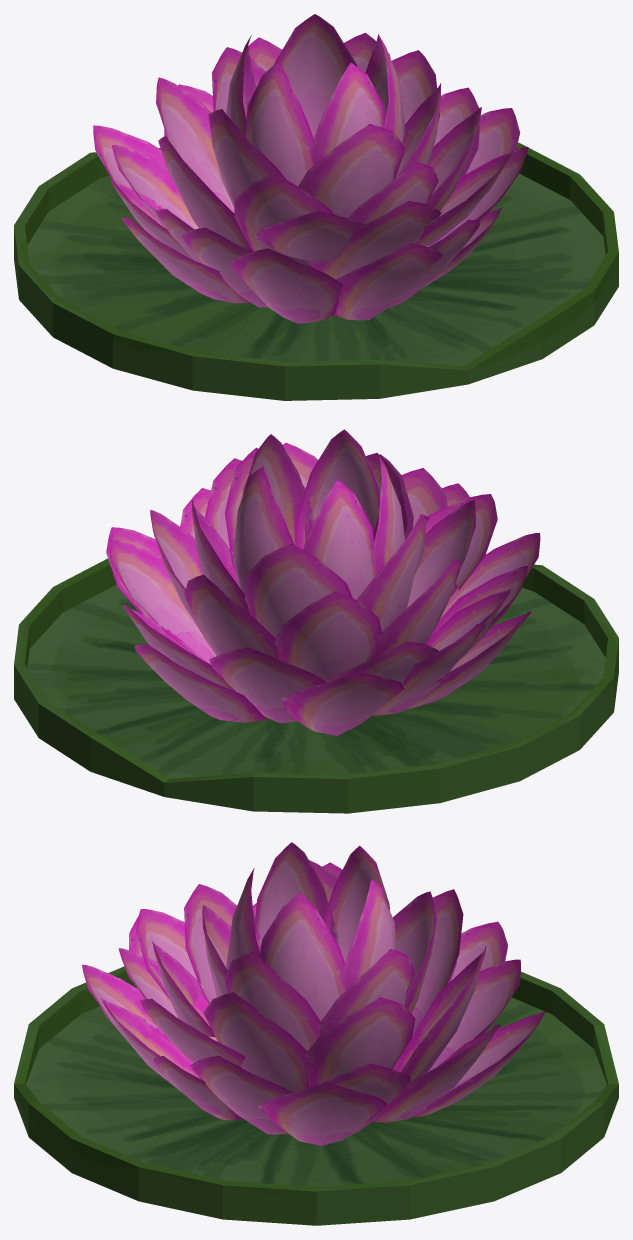
The model's file is LotusFlower_Mod.fbx.
3 views of the same model, one above another, from view 1: azimuth 30°, elevation 25°; view 2: azimuth 150°, elevation 25°; view 3: azimuth 270°, elevation 25° (orthographic).
Parts seen in each view (by area): view 1: Frog; view 2: Frog; view 3: Frog.
Boxes of the visible parts, x1,y1,x2,y2 form: Frog: (14,14,618,400); Frog: (14,429,618,813); Frog: (14,842,618,1225).
Size of the model in its own units: 722 by 307 by 722.
